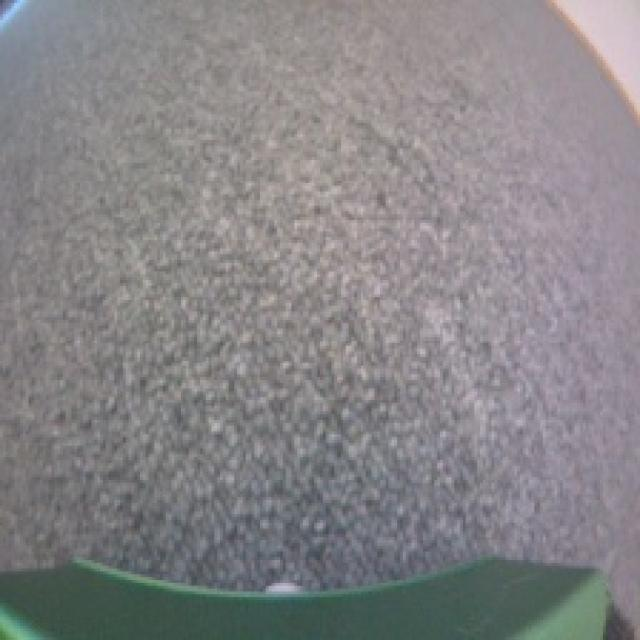robot: (0, 546, 617, 637)
